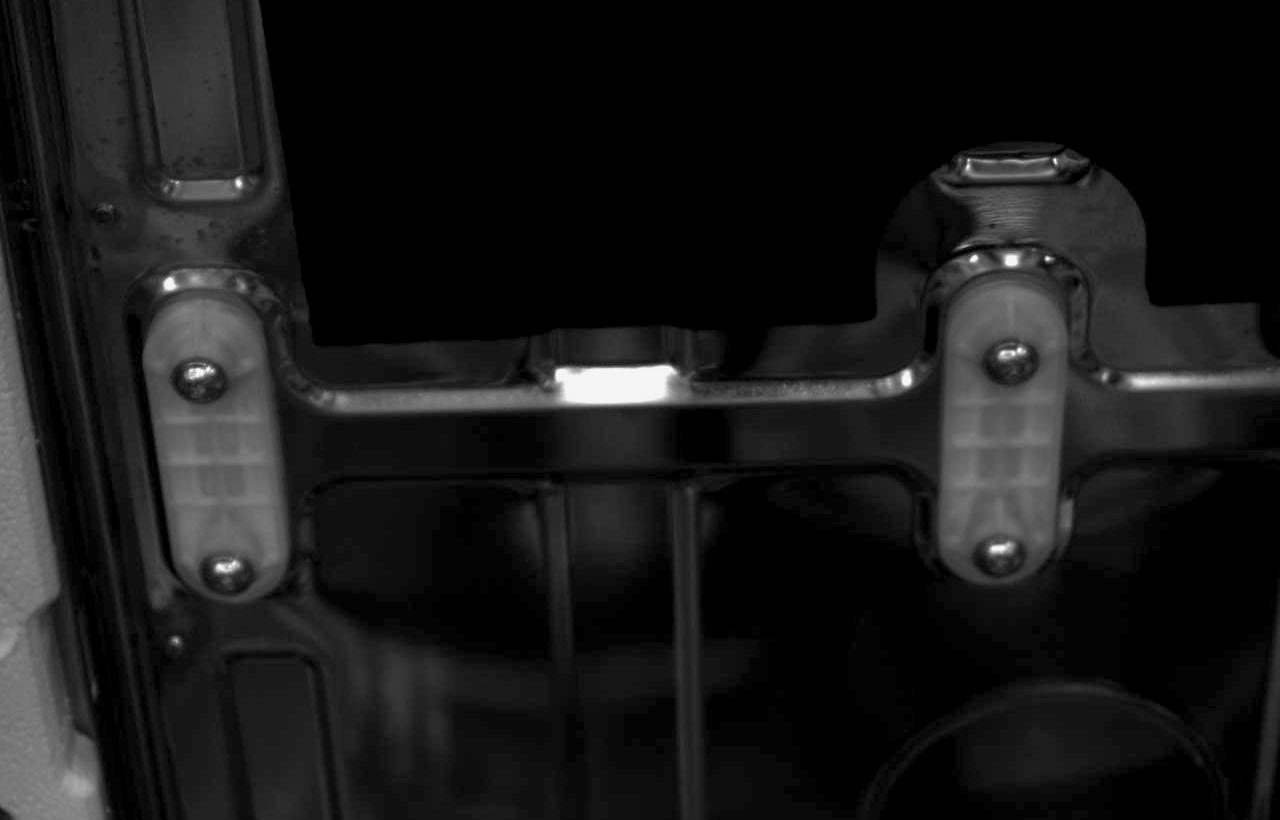vida-ok: (163, 345, 234, 412), (980, 329, 1047, 397), (967, 519, 1033, 588), (193, 544, 259, 602)
